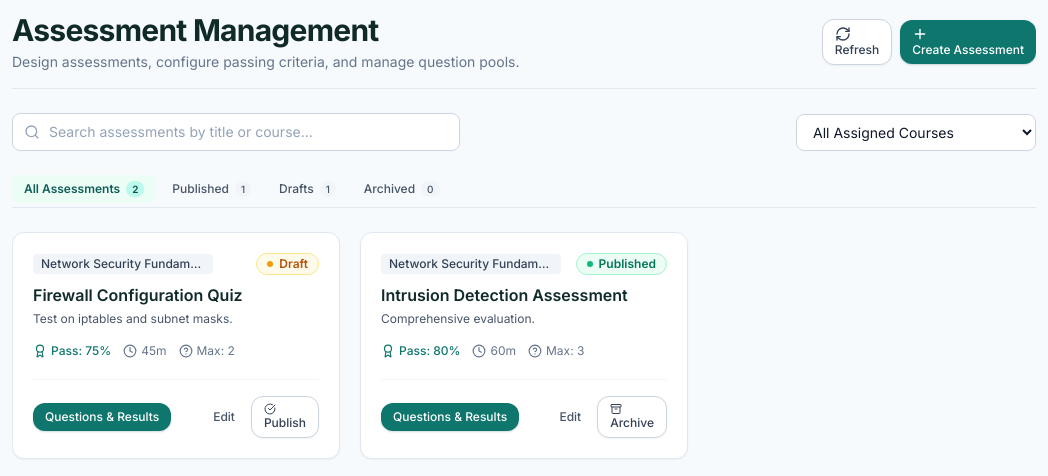
Test: TrainerAssessmentsPage › filters assessments by status tabs
The width and height of the screenshot is (1048, 476).
Expected: the heading "Firewall Configuration Quiz" is shown, [33, 285, 243, 305]
Click Published tab
Click the button "Published 1" at (212, 189), box [160, 175, 263, 203]
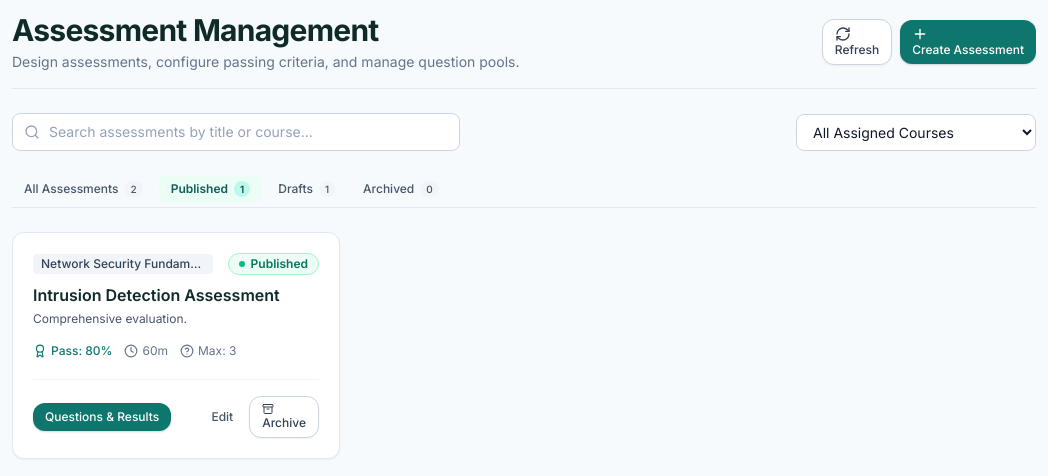
Expected: the heading "Intrusion Detection Assessment" is shown, [33, 283, 319, 307]
Expected: the heading "Firewall Configuration Quiz" is gone
